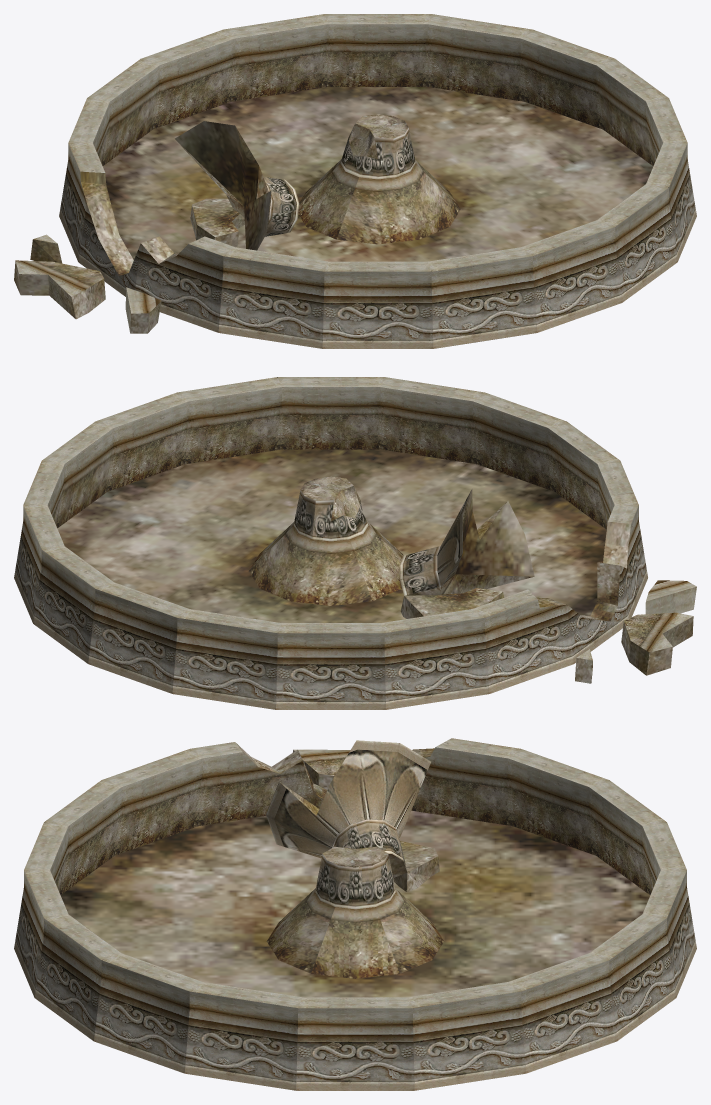
The model's file is Fountn01.glb.
3 renders of one model, top to bottom at view 1: azimuth 30°, elevation 25°; view 2: azimuth 150°, elevation 25°; view 3: azimuth 270°, elevation 25°, orthographic. The views are drawn at different scales.
Visible parts, largest first — view 1: _Fountn01; view 2: _Fountn01; view 3: _Fountn01.
Part boxes in pixels (bbox=[...]): _Fountn01: bbox=[14, 14, 696, 348]; _Fountn01: bbox=[14, 377, 696, 709]; _Fountn01: bbox=[14, 738, 696, 1090].
Bounding box in the file's own units: 8.1 × 1.56 × 7.18.
Materials: 1 (1 with a texture image).
